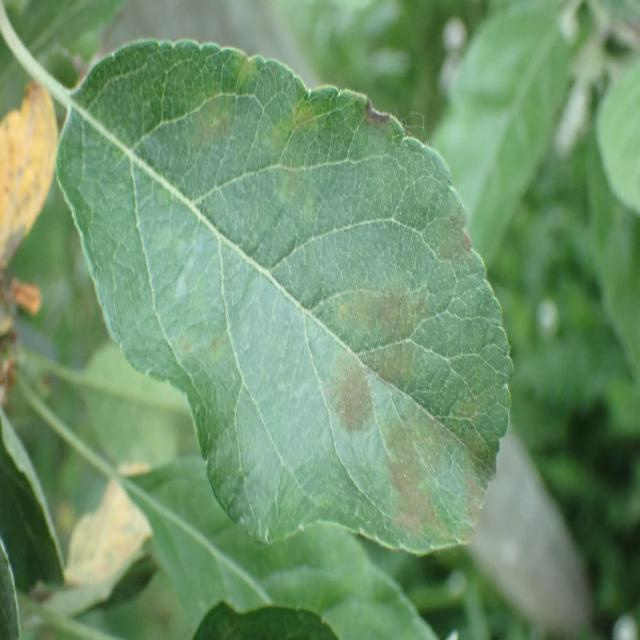scab: (75, 52, 512, 558)
